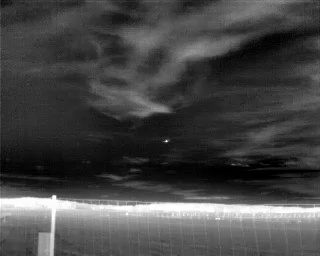AIRPLANE: (163, 137, 170, 144)
